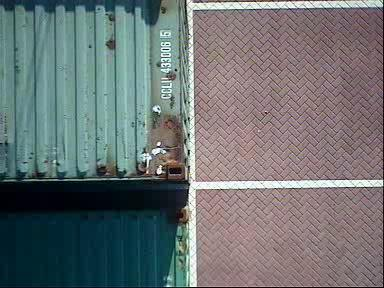groundmarker_2: (1, 147, 87, 218)
